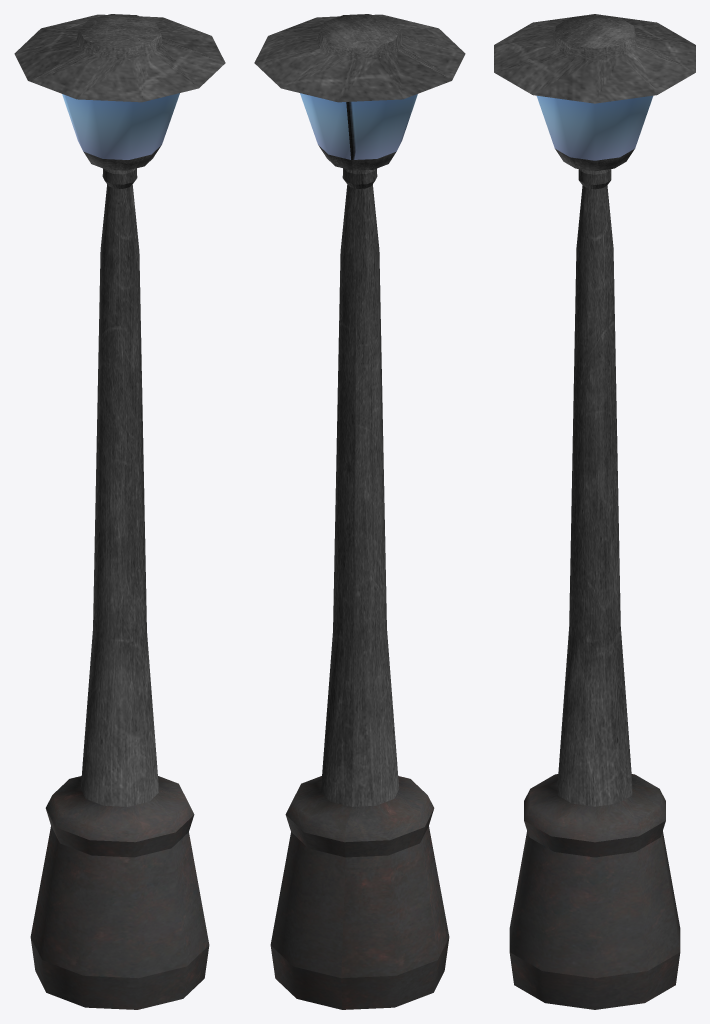
Rendered from poste.fbx.
3 renders of one model, left to right at view 1: azimuth 30°, elevation 25°; view 2: azimuth 150°, elevation 25°; view 3: azimuth 270°, elevation 25°, orthographic.
Visible parts, largest first — view 1: poste; view 2: poste; view 3: poste.
Boxes of the visible parts, x1,y1,x2,y2 form: poste: (14,14,225,1009); poste: (254,14,465,1009); poste: (494,14,695,1009).
Size of the model in its own units: 0.8309 by 4.09 by 0.7903.
